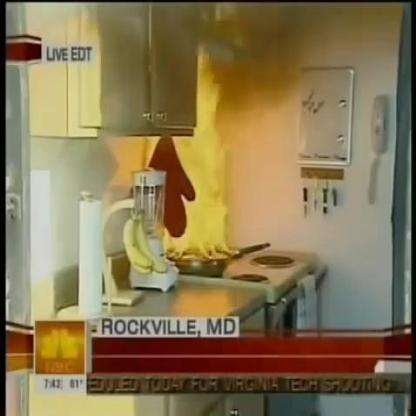fire: (159, 80, 234, 262)
